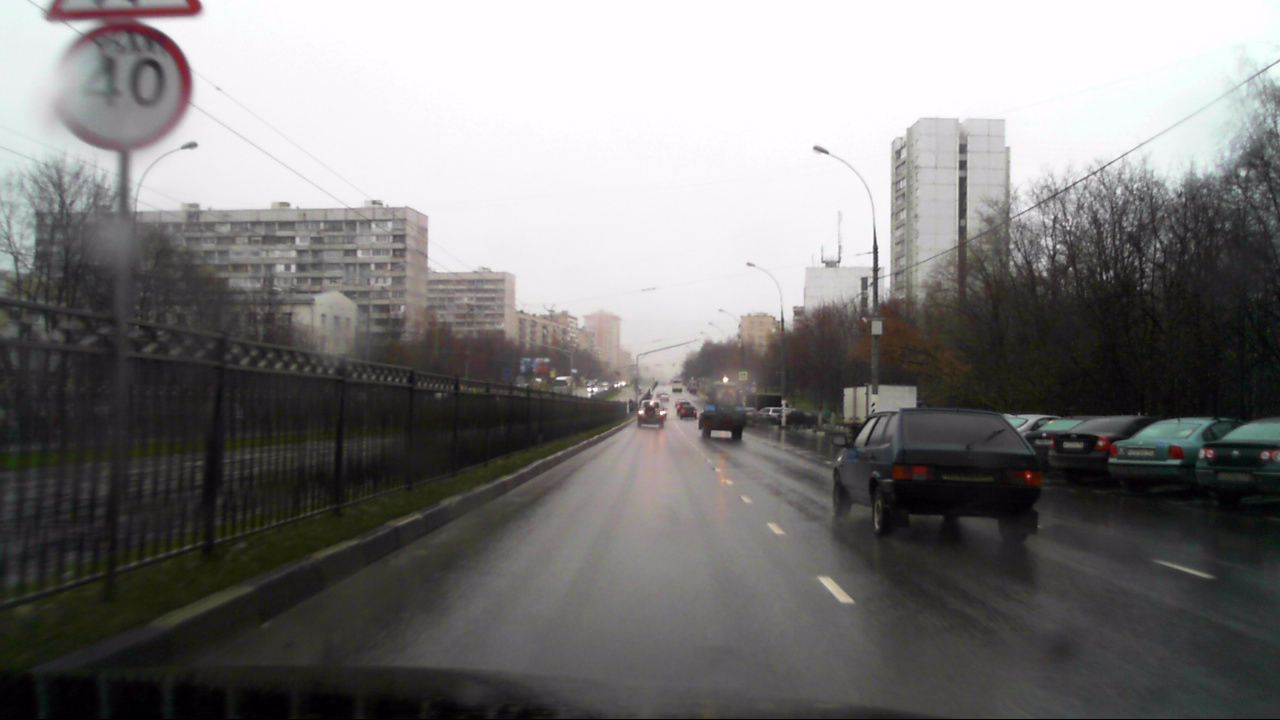speed_warning_40: (50, 22, 193, 152)
